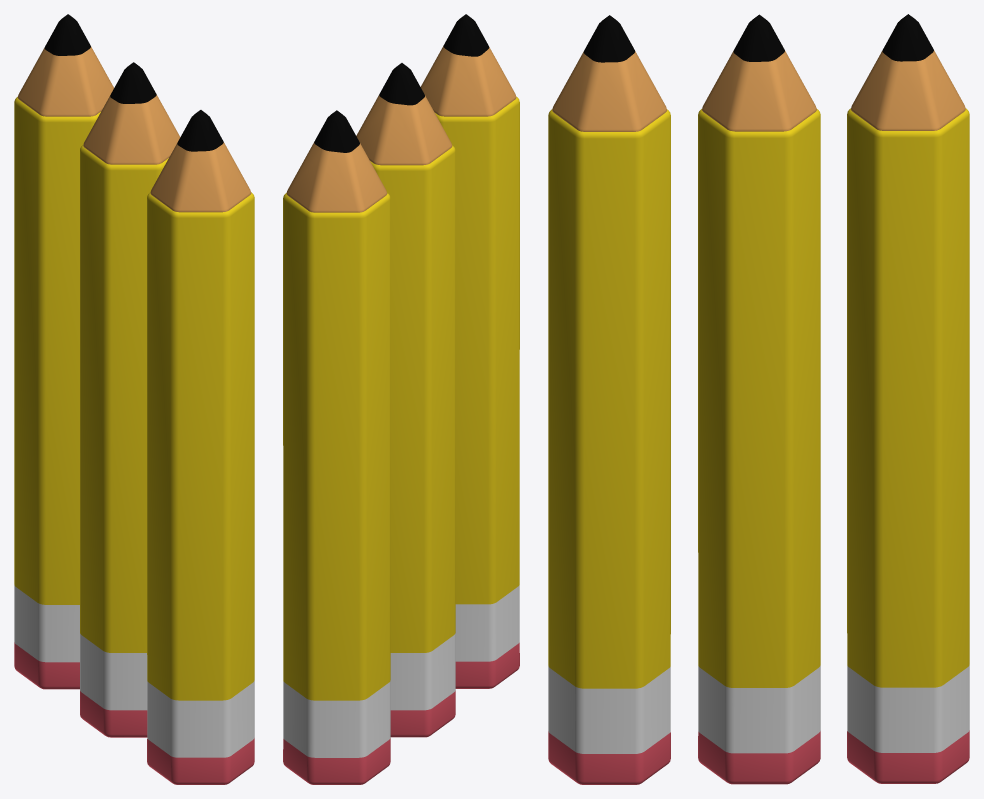
File: PencilSpikes.fbx
3 views of the same model, side by side, from view 1: azimuth 30°, elevation 25°; view 2: azimuth 150°, elevation 25°; view 3: azimuth 270°, elevation 25° (orthographic). The views are drawn at different scales.
Parts seen in each view (by area): view 1: Cylinder, Cylinder.001, Cylinder.002; view 2: Cylinder.002, Cylinder.001, Cylinder; view 3: Cylinder.001, Cylinder, Cylinder.002.
Part boxes in pixels (left/top/right/bottom): Cylinder: left=147, top=110, right=254, bottom=784; Cylinder.001: left=80, top=62, right=180, bottom=737; Cylinder.002: left=14, top=14, right=113, bottom=689; Cylinder.002: left=283, top=110, right=390, bottom=784; Cylinder.001: left=356, top=63, right=455, bottom=737; Cylinder: left=420, top=14, right=519, bottom=688; Cylinder.001: left=698, top=14, right=820, bottom=784; Cylinder: left=548, top=15, right=670, bottom=784; Cylinder.002: left=847, top=14, right=969, bottom=783.
Size of the model in its own units: 87.06 by 646 by 329.
